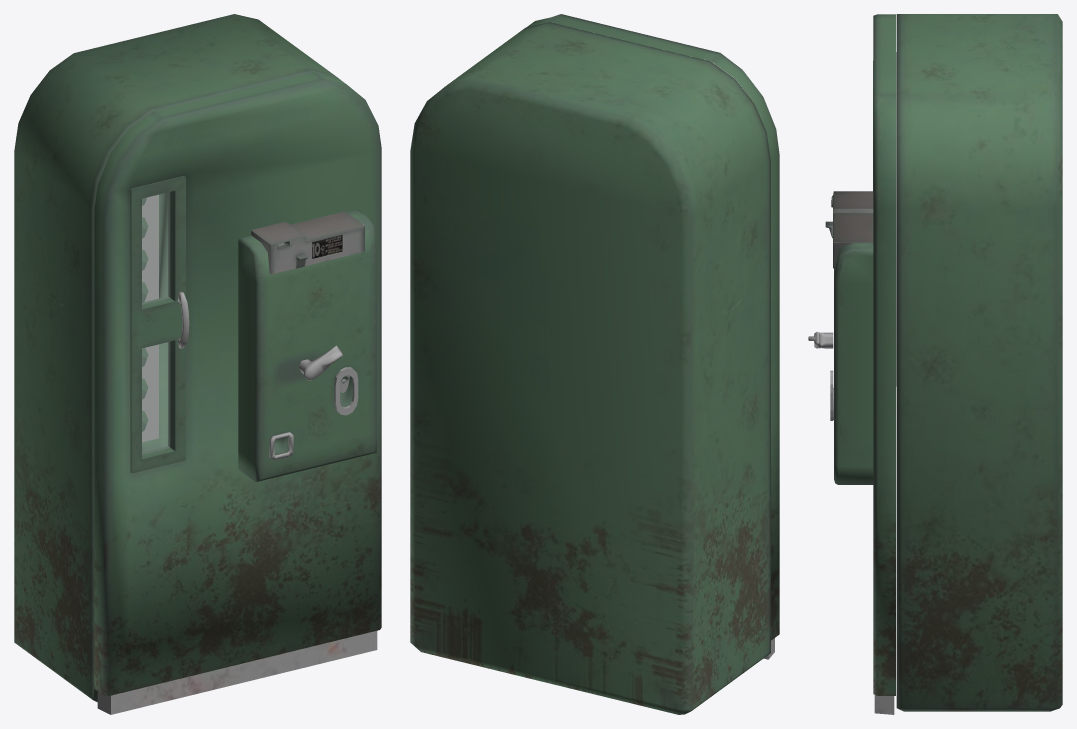
The picture shows the model from 3 angles, left to right: view 1: azimuth 30°, elevation 25°; view 2: azimuth 150°, elevation 25°; view 3: azimuth 270°, elevation 25°; orthographic projection.
Parts seen in each view (by area): view 1: Body, Glass; view 2: Body; view 3: Body.
Boxes of the visible parts, bbox=[...] form: Body: bbox=[14, 14, 381, 714]; Glass: bbox=[142, 192, 169, 454]; Body: bbox=[410, 14, 779, 714]; Body: bbox=[808, 14, 1062, 714].
Bounding box in the file's own units: 1.05 × 2.1 × 0.8167.
2 materials, 1 textured.
